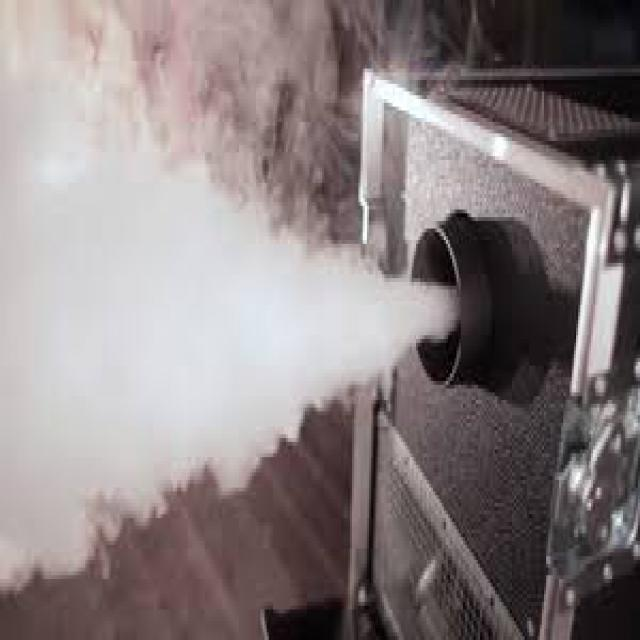Smoke: (0, 28, 421, 581)
